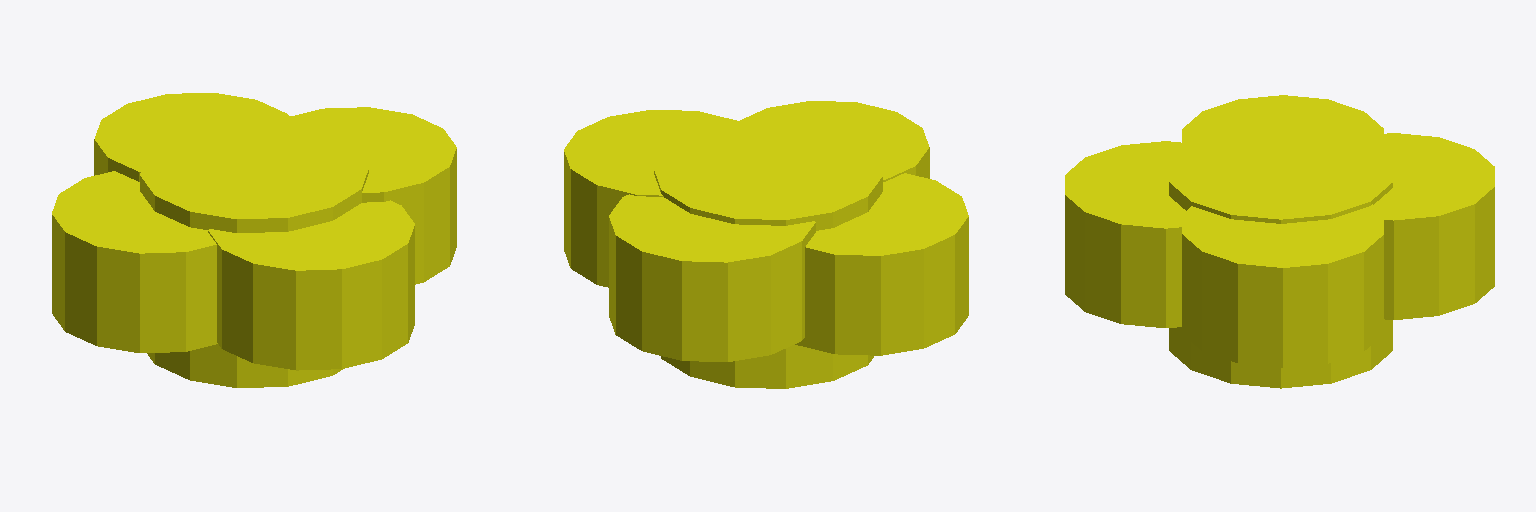
File: ceilLamp.obj
3 renders of one model, left to right at view 1: azimuth 30°, elevation 25°; view 2: azimuth 150°, elevation 25°; view 3: azimuth 270°, elevation 25°, orthographic.
Parts seen in each view (by area): view 1: ceil_lamp; view 2: ceil_lamp; view 3: ceil_lamp.
Boxes of the visible parts, box(x1,y1,x2,y2) form: ceil_lamp: box(52, 93, 456, 387); ceil_lamp: box(564, 101, 968, 388); ceil_lamp: box(1065, 95, 1494, 388).
Bounding box in the file's own units: 168 × 71.82 × 166.